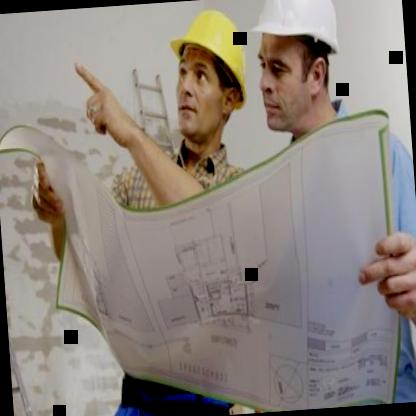helmet: (235, 0, 355, 142), (157, 4, 264, 152)
